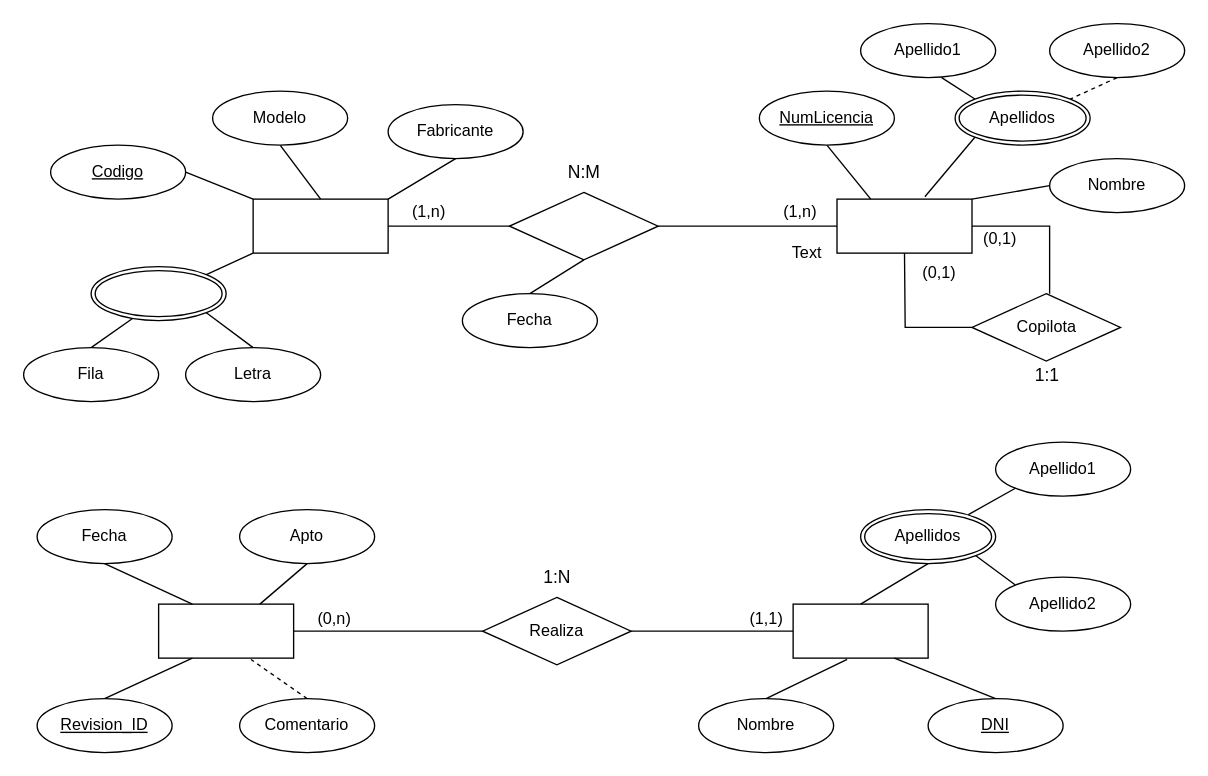
Some shapes in this 1208 by 776 pixel diagram are drawn without their labels. Here are the shapes that lost their labels. From the top down, the box of each, then its label:
(252, 198, 388, 253): Avión
(508, 191, 658, 260): Pilota
(836, 198, 972, 253): Piloto
(90, 265, 226, 321): Asiento
(157, 603, 294, 658): Revisión
(792, 603, 928, 658): Mecánico
